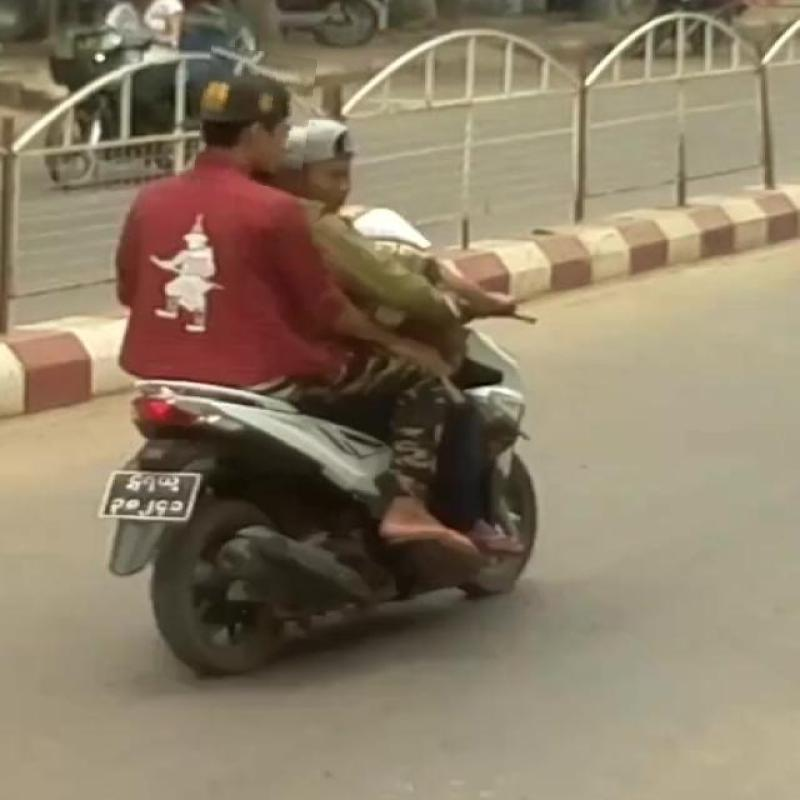nohelmet: (198, 48, 314, 187)
